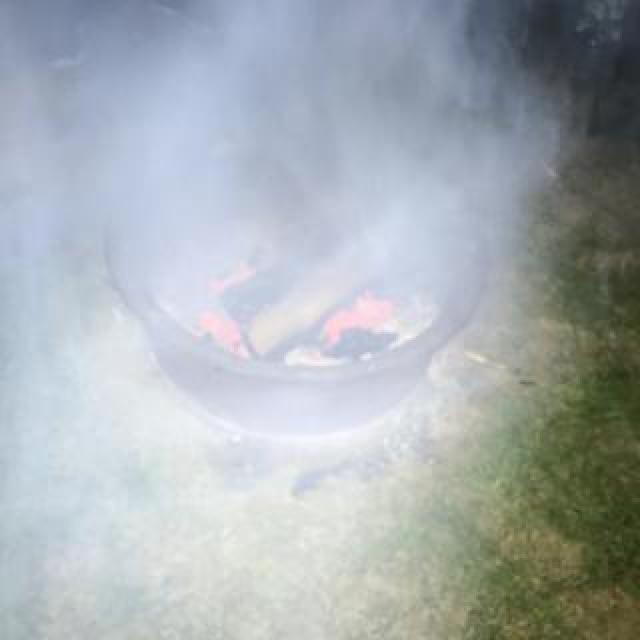Smoke: (2, 6, 582, 638)
